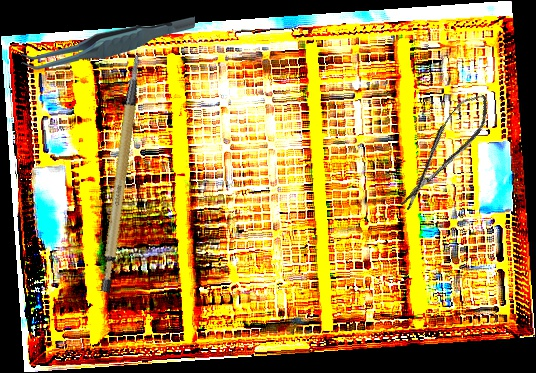Micro Scissor: (387, 86, 500, 216)
Scalpel Handle: (69, 52, 179, 295)
Tissue Forceps: (20, 15, 196, 71)
